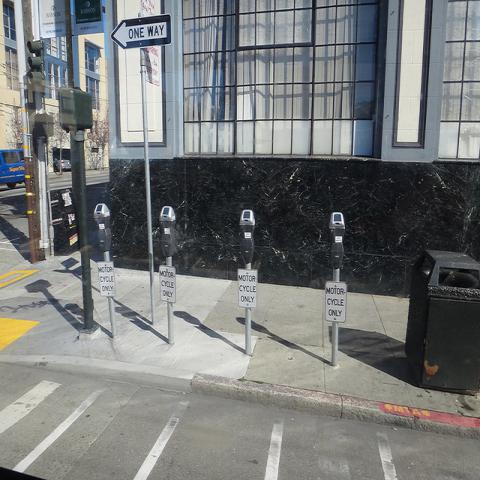car: (1, 147, 24, 189), (54, 156, 72, 172)
